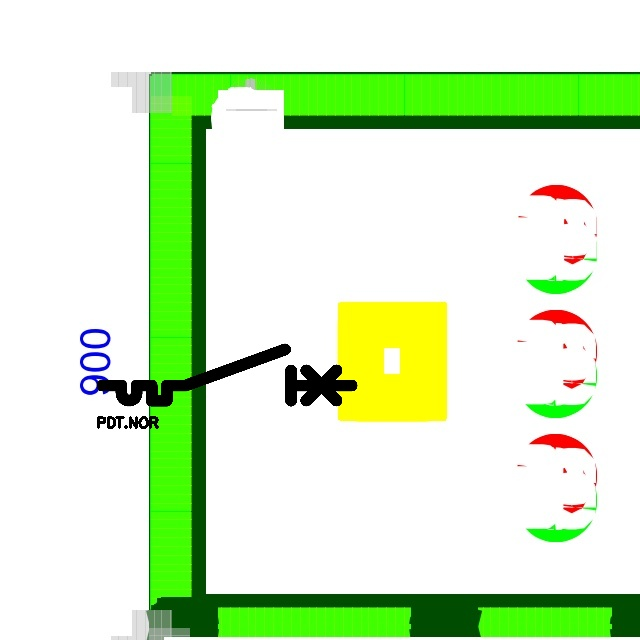interruptor_termomagnetico: (96, 343, 358, 407)
